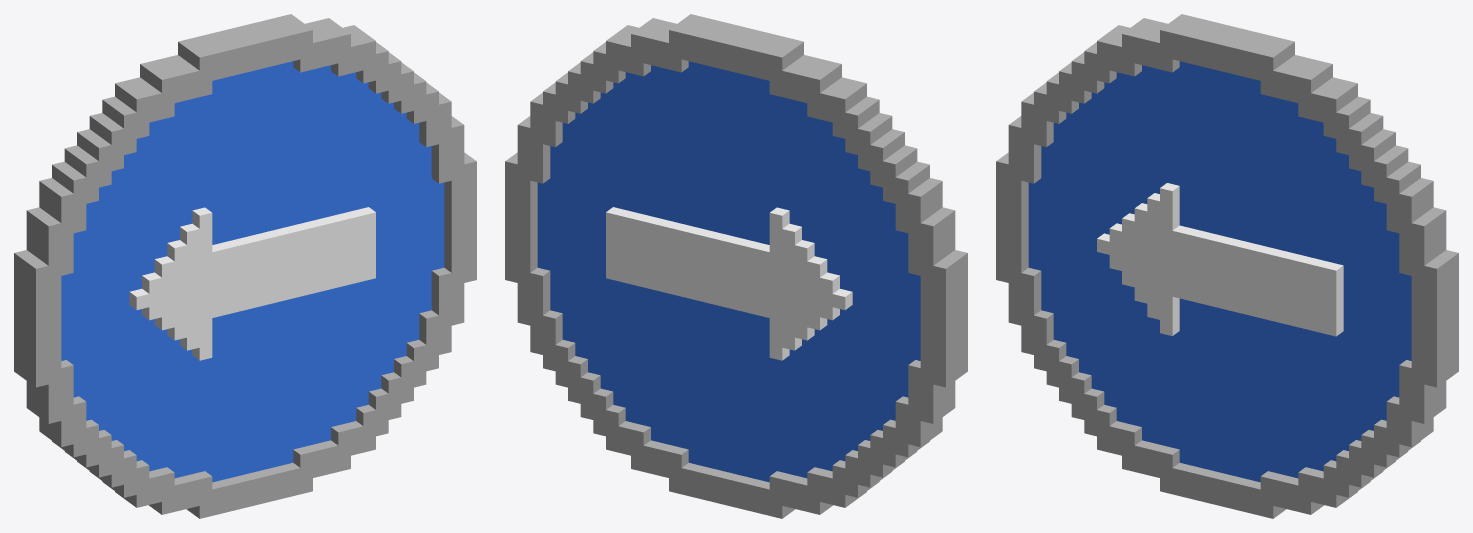
File: Back.obj
The picture shows the model from 3 angles, left to right: view 1: azimuth 30°, elevation 25°; view 2: azimuth 150°, elevation 25°; view 3: azimuth 330°, elevation 25°; orthographic projection.
Bounding box in the file's own units: 3.5 × 3.5 × 0.3.
Materials: 1 (1 with a texture image).
